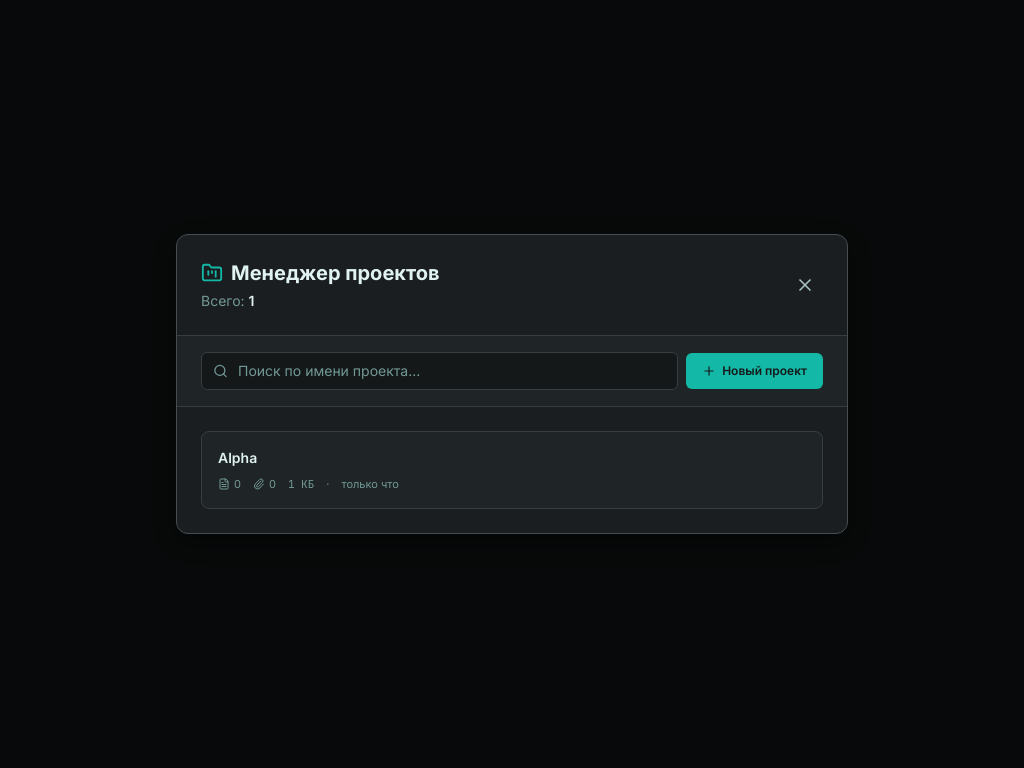
Test case: ProjectManagerModal › Поиск › показывает состояние, когда ничего не найдено
The width and height of the screenshot is (1024, 768).
Expected: the text "Alpha" is shown, [218,448,257,468]
Type "nonexistent" into the field named "Поиск по проектам". click: (440, 371)
box: [201,352,678,390]
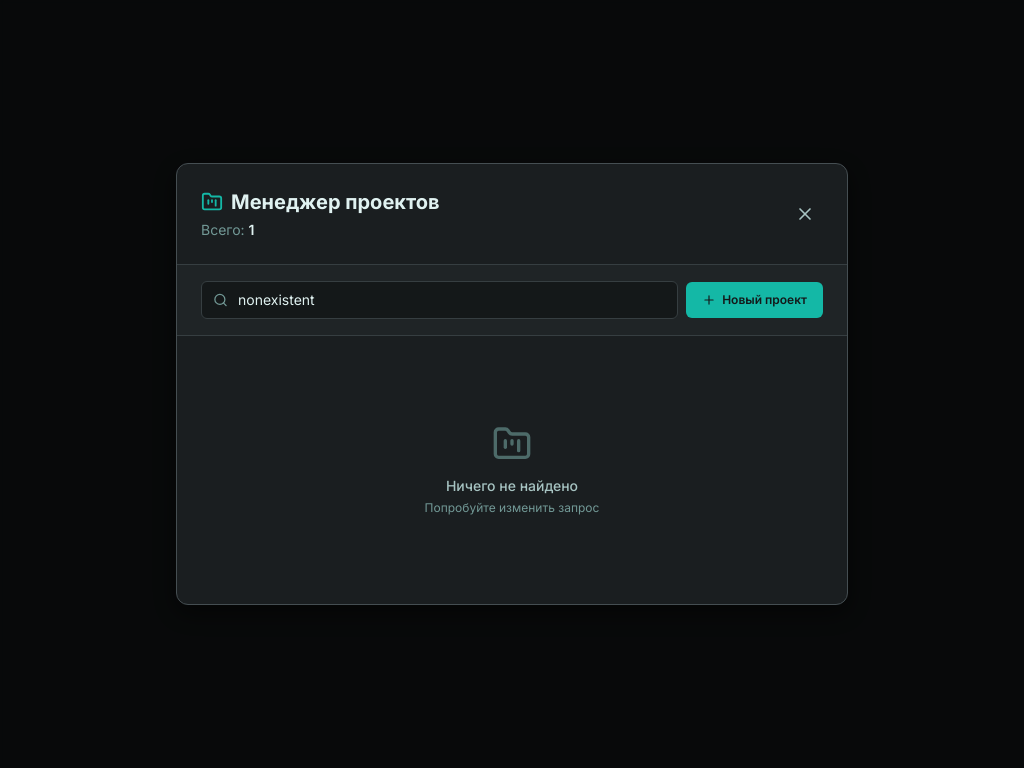
Result: the text "Ничего не найдено" is shown at [446,477,578,494]
Result: the text "Попробуйте изменить запрос" is shown at [425,500,599,515]
